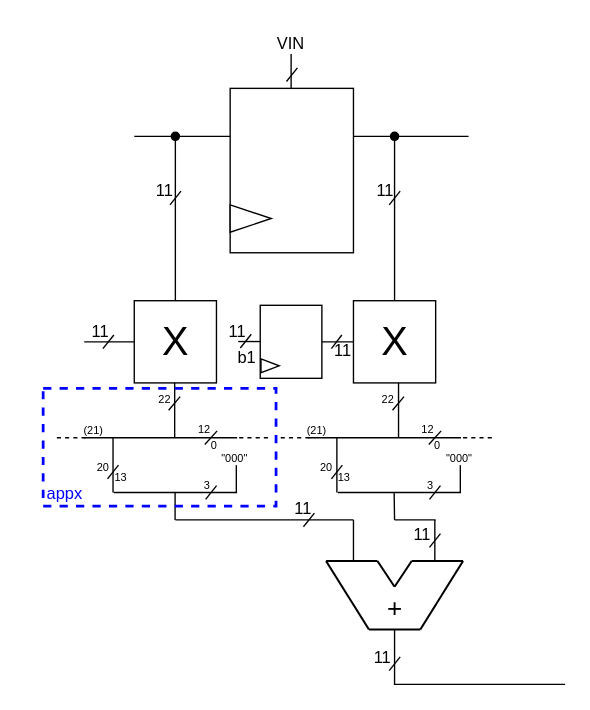
Image size: 590x710. Some labels were removed from this diagram. The shapes that lost their labels are listed below. From the top down, each one's box as (x1, y1, x2, y2) in pixels, then its label:
(229, 87, 353, 253): REG0
(259, 304, 322, 378): REG_b1
